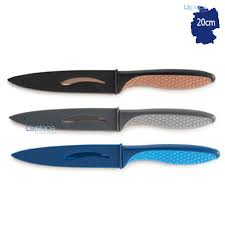knife: (7, 96, 215, 135), (5, 65, 216, 96), (10, 141, 221, 171)
